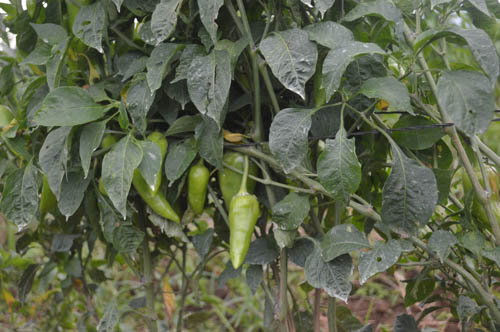ChiliPepper: (125, 162, 179, 223), (226, 194, 262, 273), (138, 131, 167, 198), (217, 156, 252, 206), (180, 164, 207, 215)
